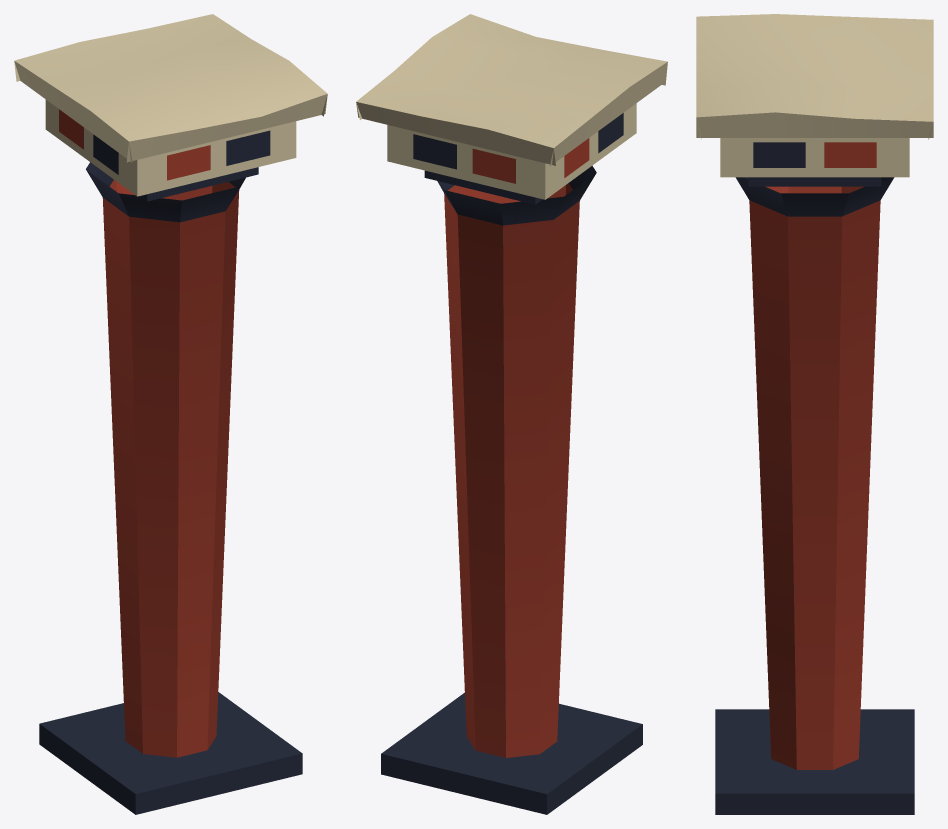
File: gallery-post.glb
3 views of the same model, side by side, from view 1: azimuth 30°, elevation 25°; view 2: azimuth 150°, elevation 25°; view 3: azimuth 270°, elevation 25° (orthographic). The views are drawn at different scales.
Parts seen in each view (by area): view 1: gallery-post; view 2: gallery-post; view 3: gallery-post.
Part boxes in pixels (bbox=[...]): gallery-post: bbox=[14, 14, 327, 814]; gallery-post: bbox=[356, 14, 667, 814]; gallery-post: bbox=[696, 14, 933, 814].
Size of the model in its own units: 1 by 3.31 by 1.
